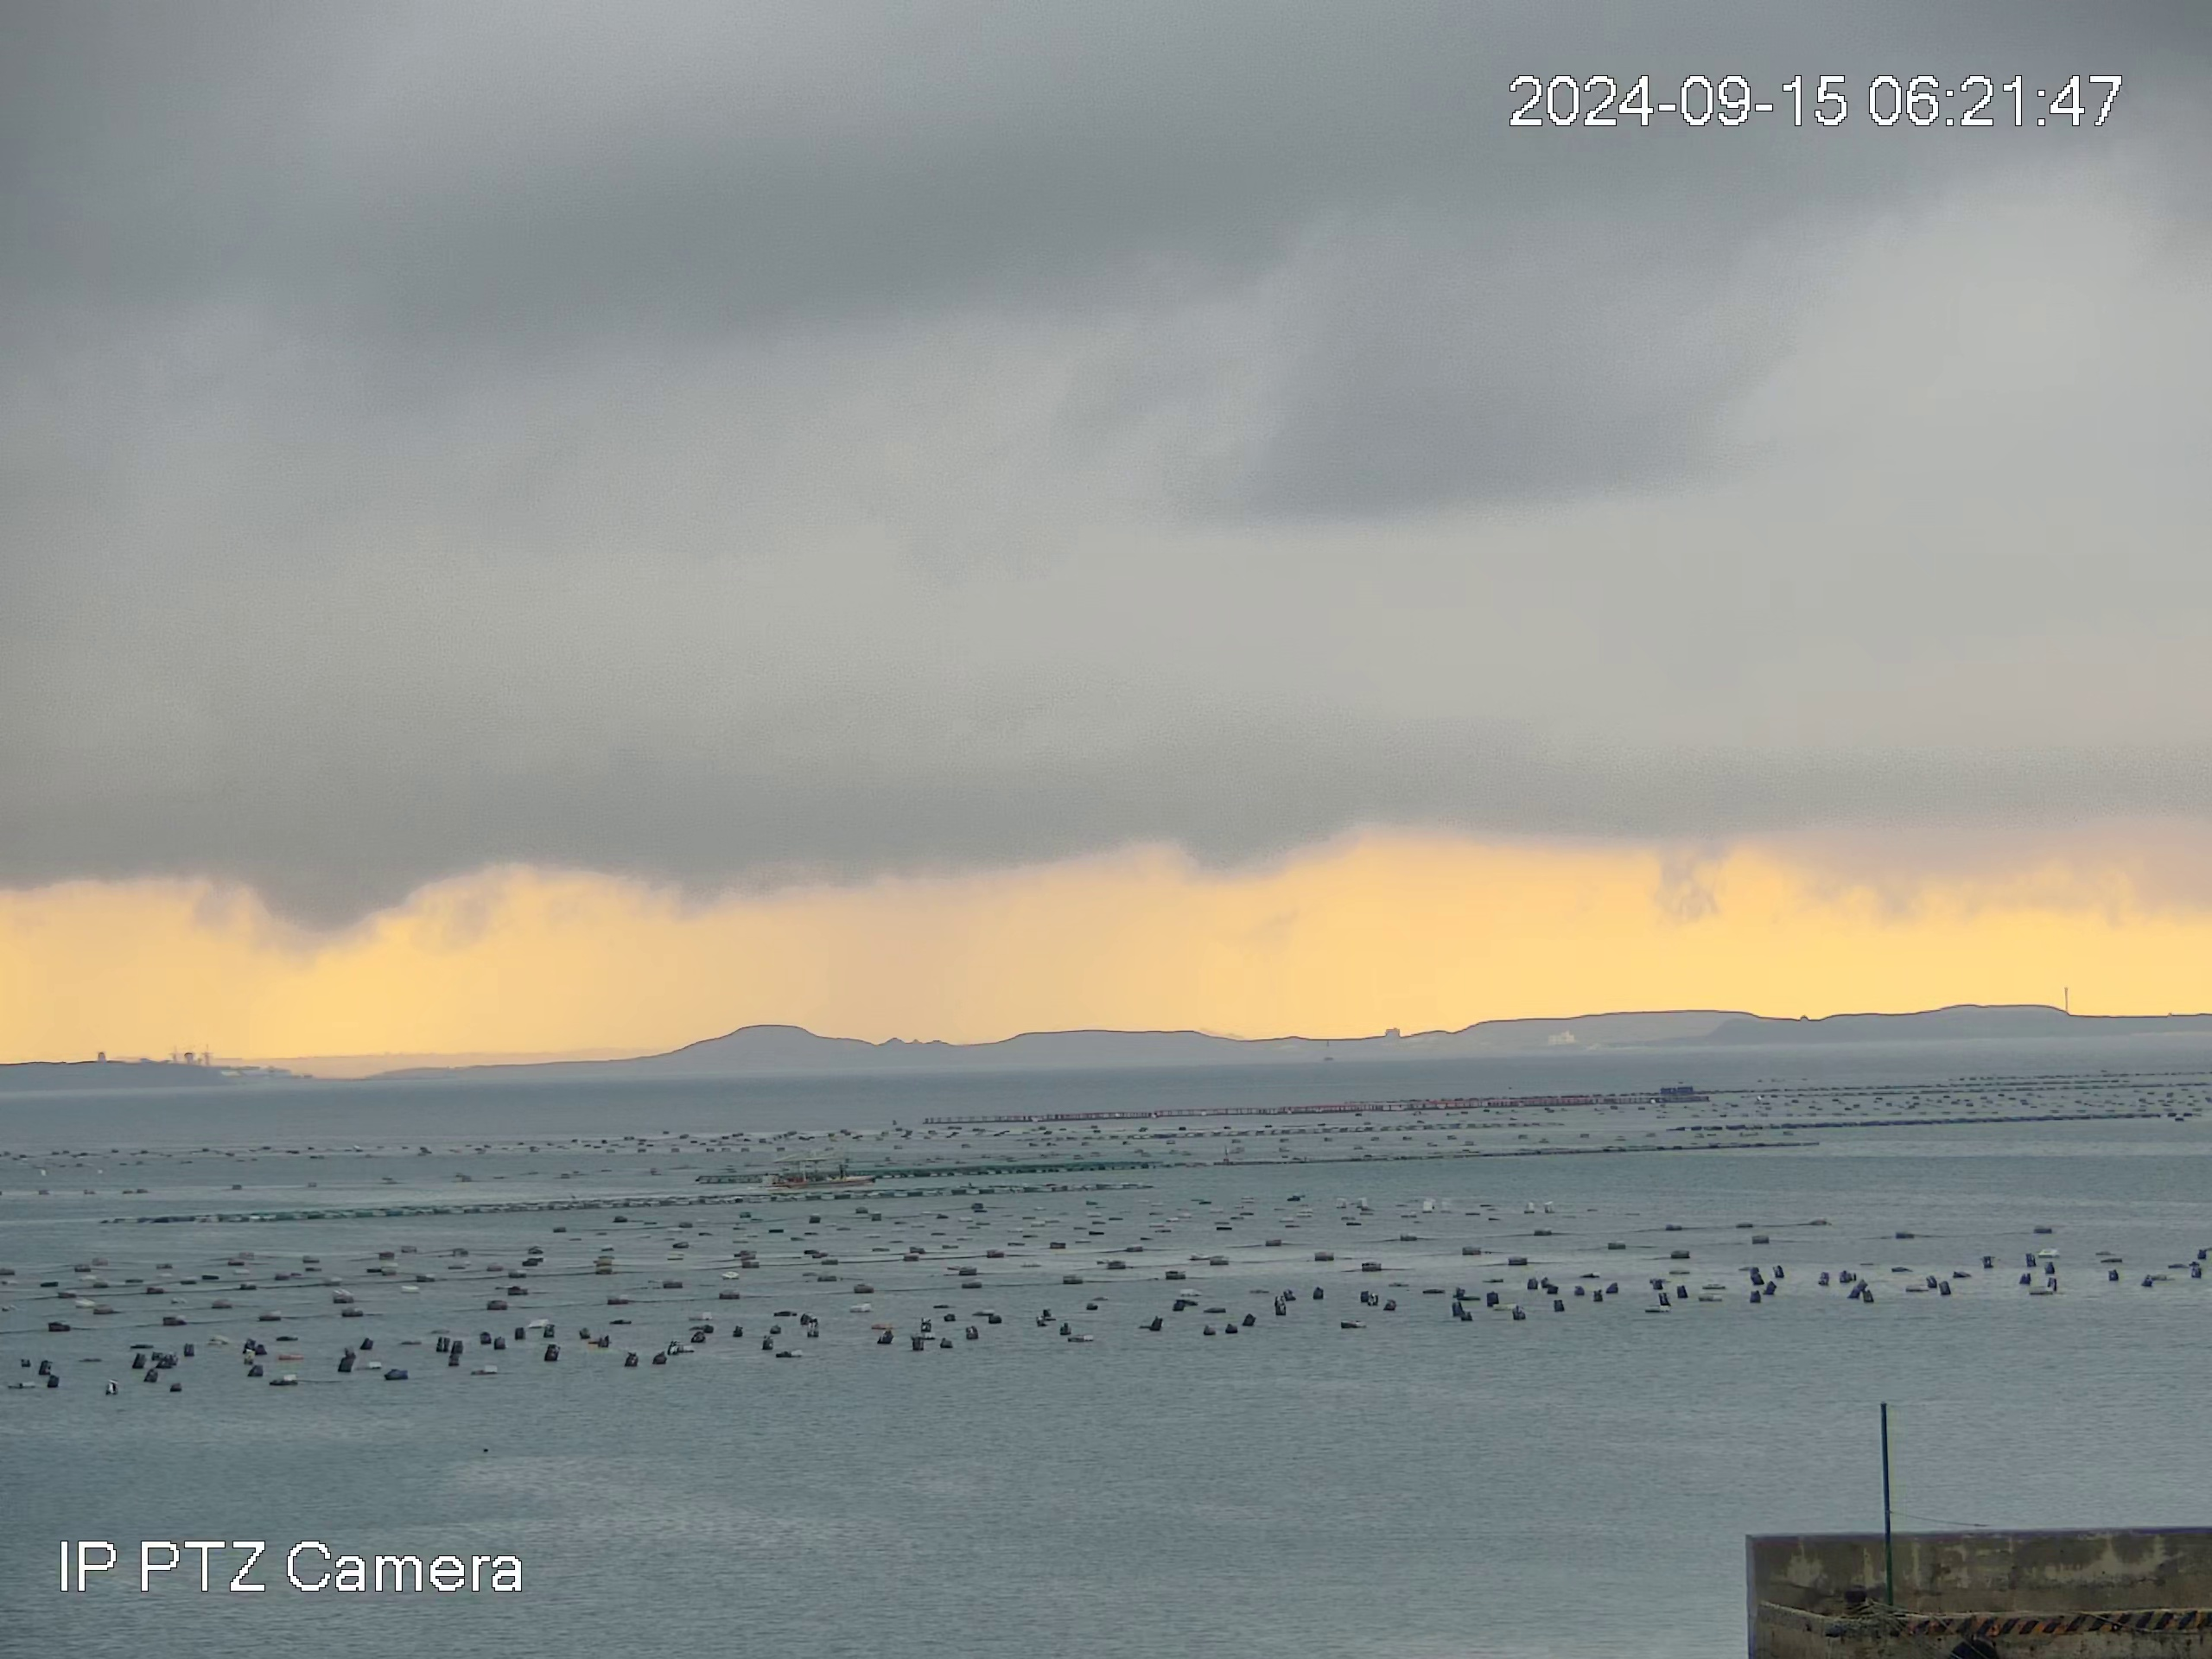boat: (766, 1159, 880, 1187)
